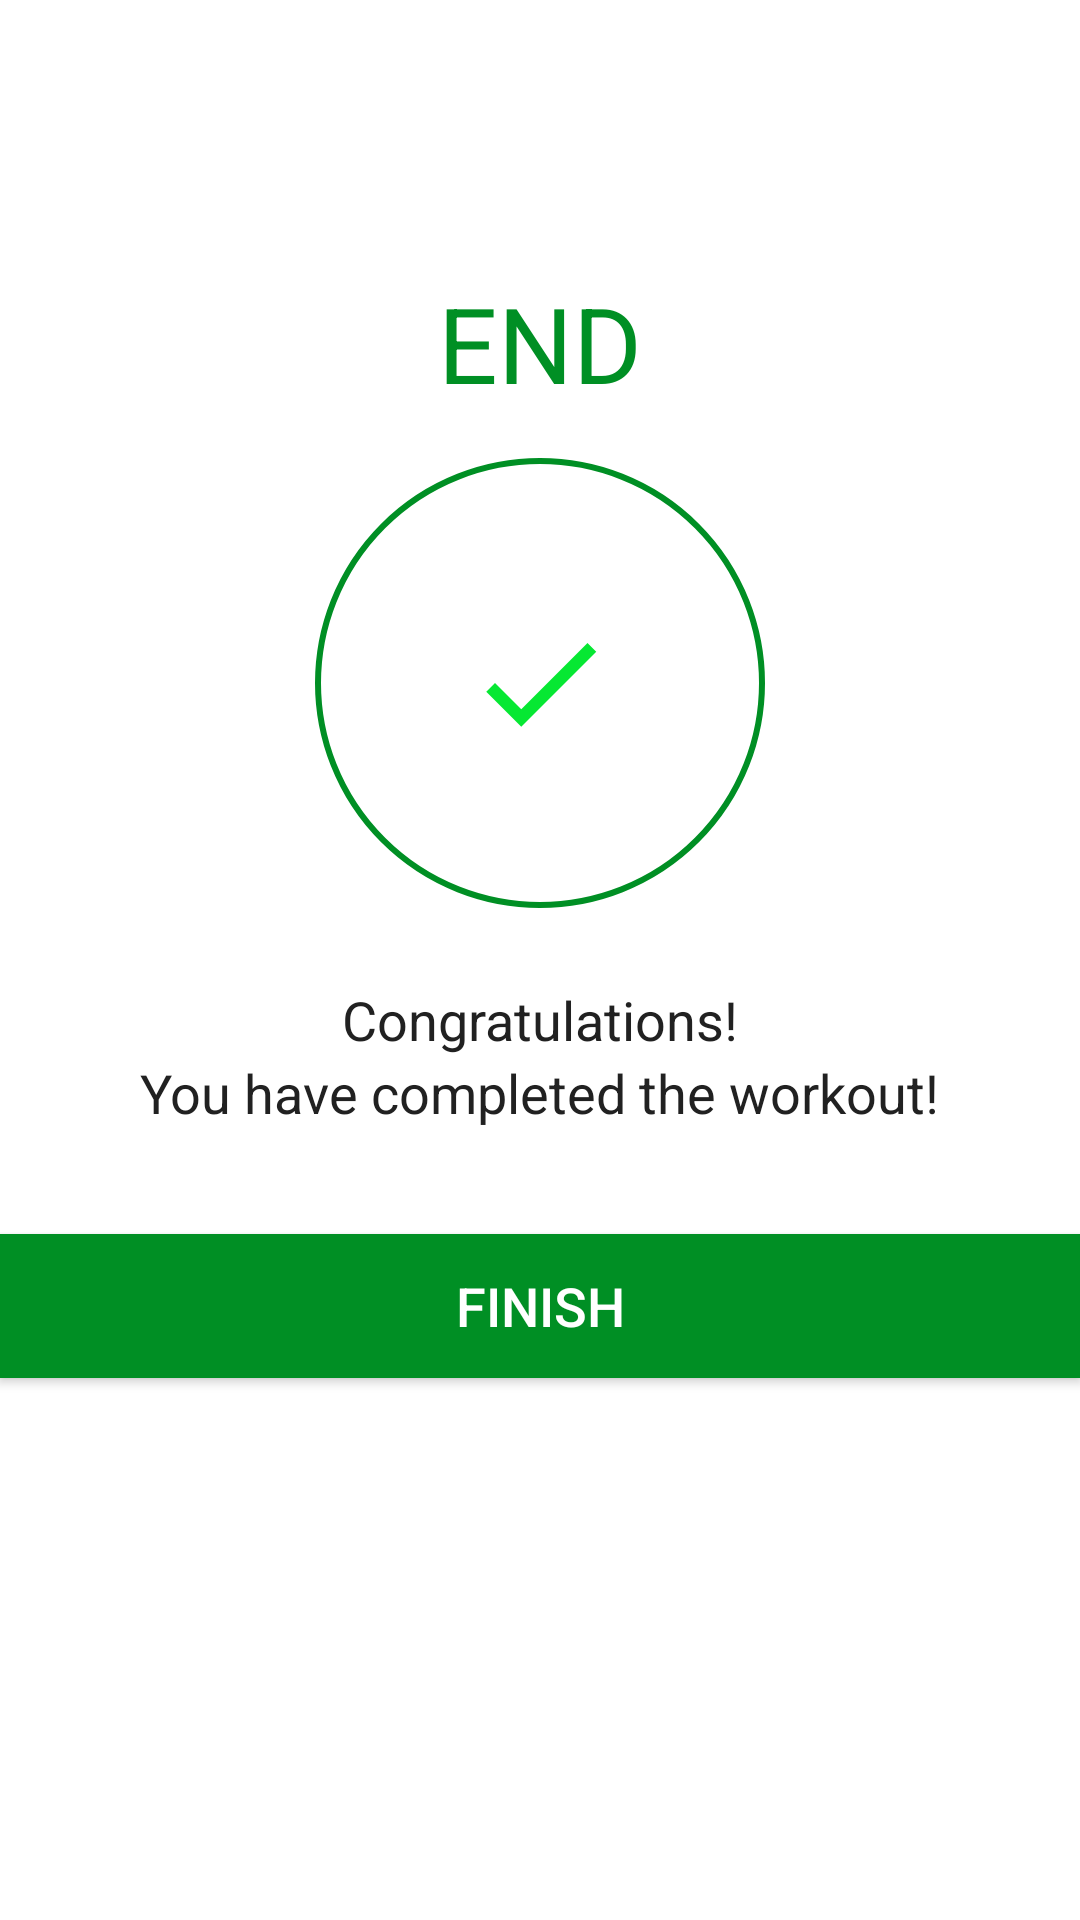

Icon click points for this 1080px x 1920px phone screenshot, format (x,y):
done: (541,685)
